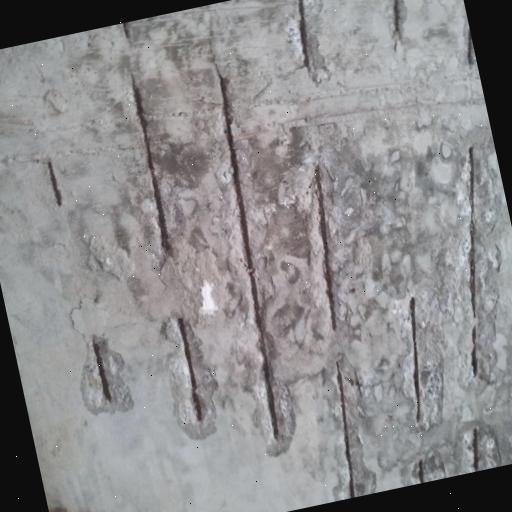spalling: (209, 50, 292, 458), (444, 138, 512, 393), (122, 72, 184, 260), (398, 291, 445, 484), (323, 347, 380, 501), (306, 164, 355, 331), (162, 312, 220, 439), (81, 332, 132, 413), (285, 0, 333, 77), (460, 422, 496, 473), (378, 0, 413, 49)
